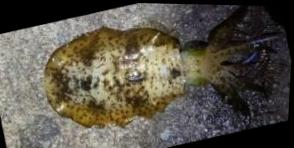Cephalopod: (45, 4, 279, 127)
